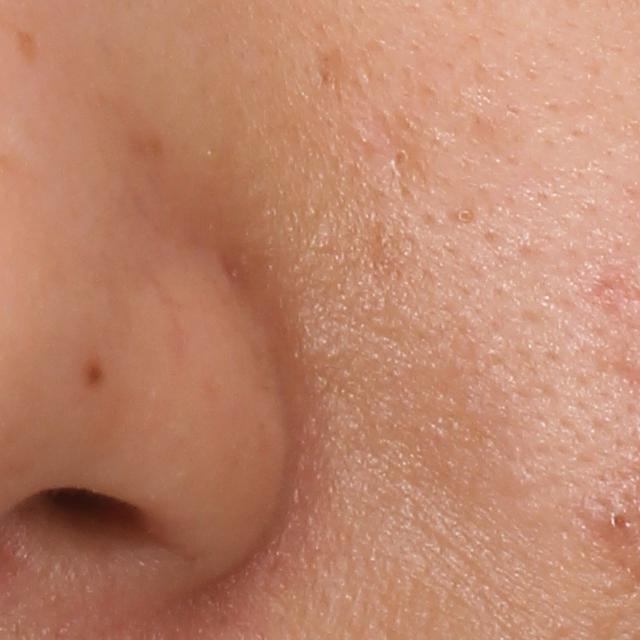comedo: (385, 146, 411, 174), (454, 205, 476, 225)
melasma: (16, 29, 41, 63)
nevus: (82, 358, 108, 389)
